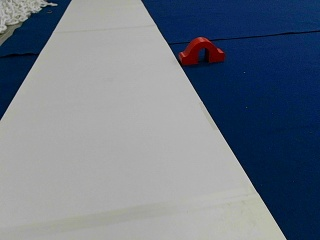bridge: (180, 37, 224, 63)
